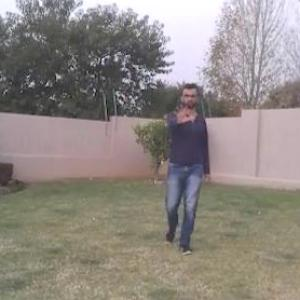follow_hand: (175, 100, 195, 126)
